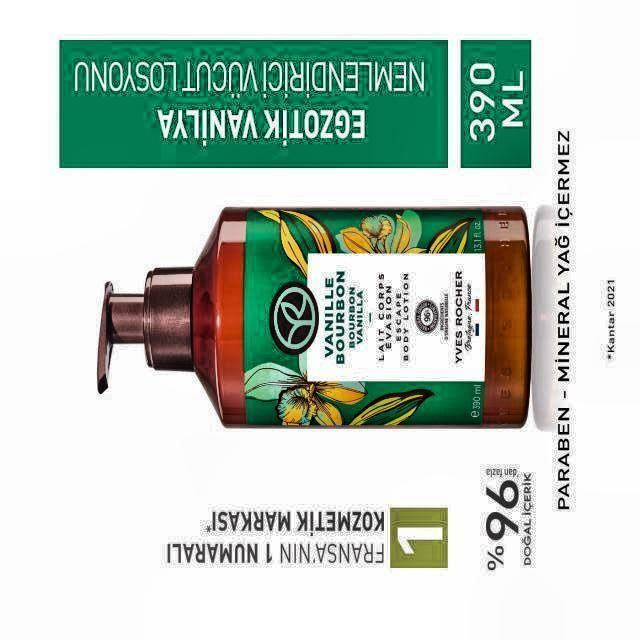plastic: (98, 208, 530, 427)
